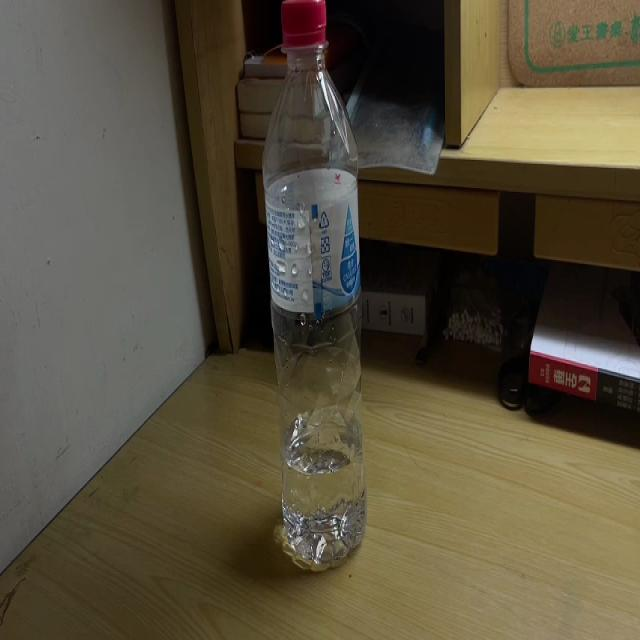Water: (260, 0, 368, 572)
